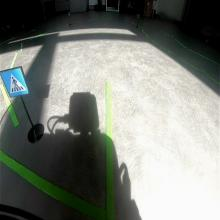crosswalk: (0, 64, 30, 98)
